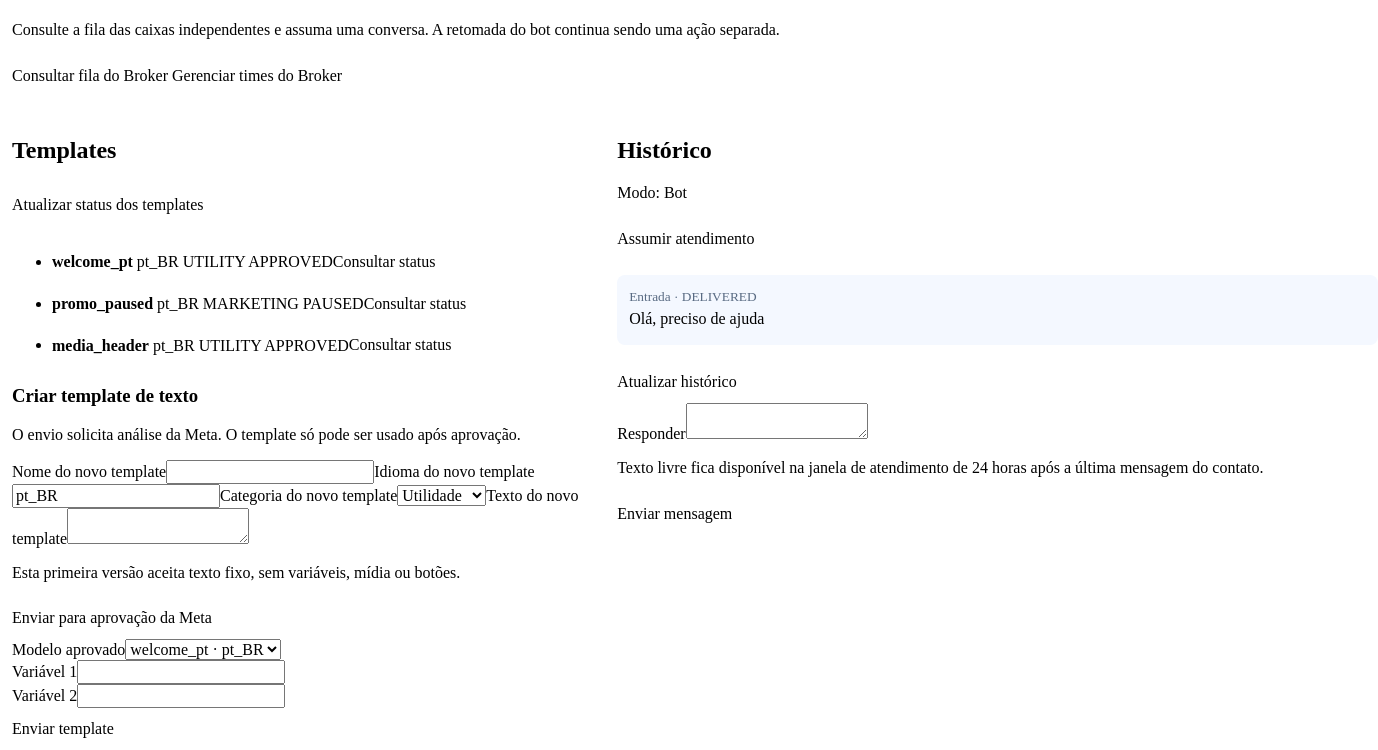
Scenario: MessagingPage › does not overwrite a confirmed human takeover with an older refresh response
(page scrolled)
Expected: the text "Olá, preciso de ajuda" is shown, [629,310,764,327]
Click the button "Atualizar histórico". click: {"x": 677, "y": 382}
box: [617,361,737,403]
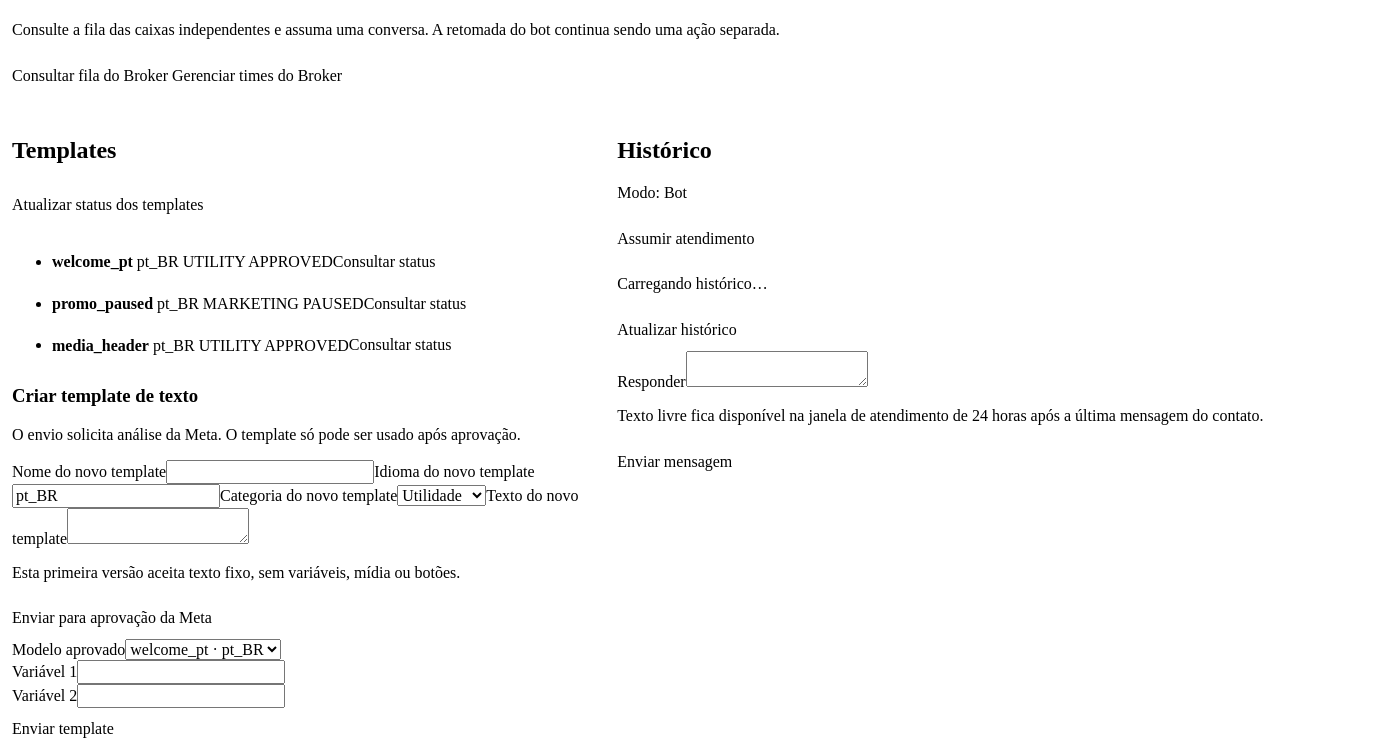
Click the button "Assumir atendimento". click: {"x": 686, "y": 239}
box: [617,218,754,259]
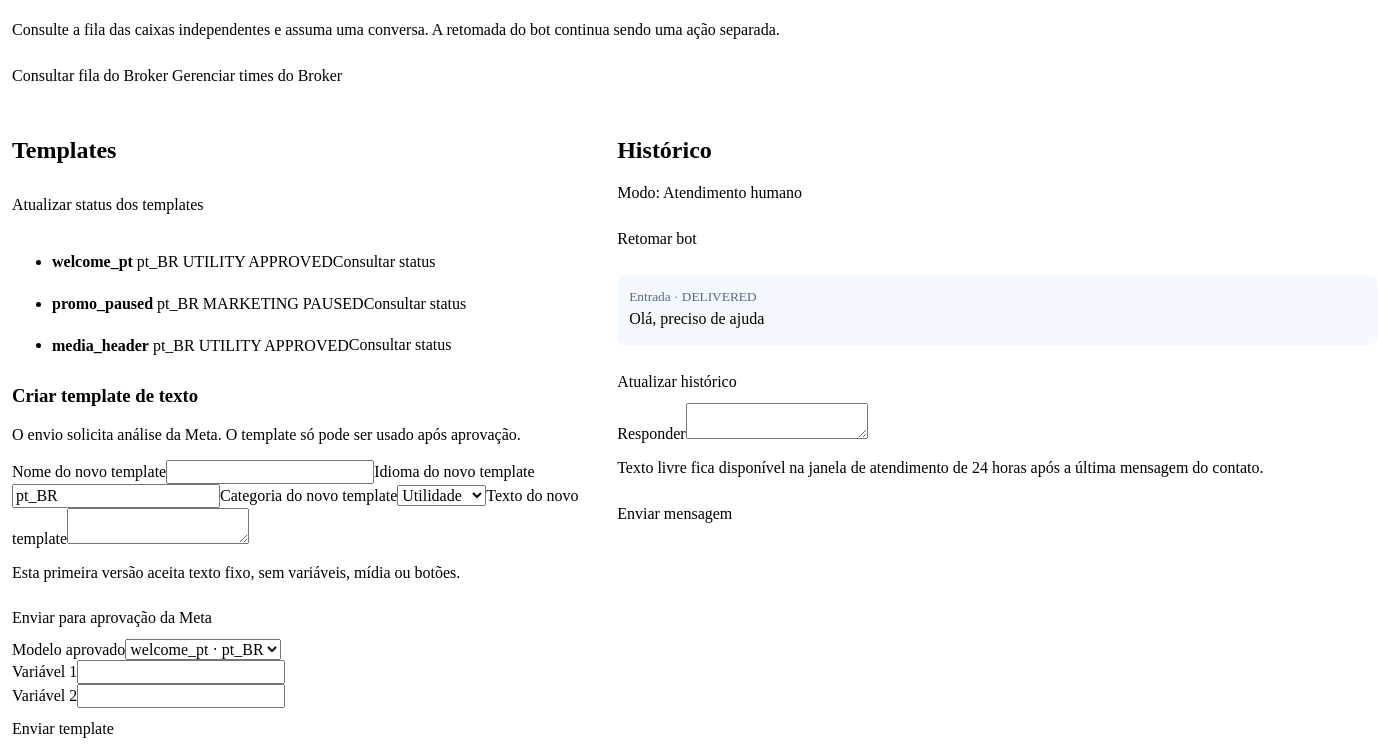
Expected: the button "Retomar bot" is enabled, [617,218,697,259]
Result: the text "Modo: Atendimento humano" is shown at [617,184,802,201]
